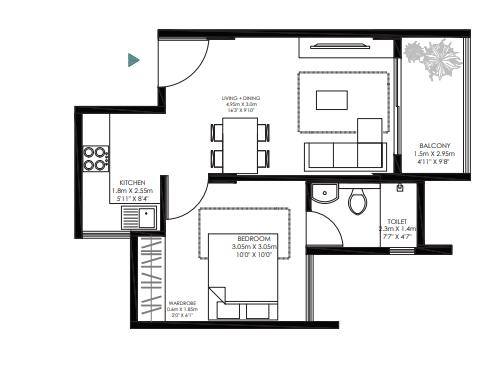Balcony: (402, 38, 464, 174)
Bedroom: (171, 179, 307, 323)
Dining Room: (161, 115, 295, 175)
Dining table: (205, 113, 273, 176)
Foyer: (164, 42, 289, 113)
Kitchen: (83, 114, 159, 229)
Living Room: (291, 39, 396, 171)
Wardrobe: (137, 236, 169, 320)
toilet: (312, 185, 417, 248)
